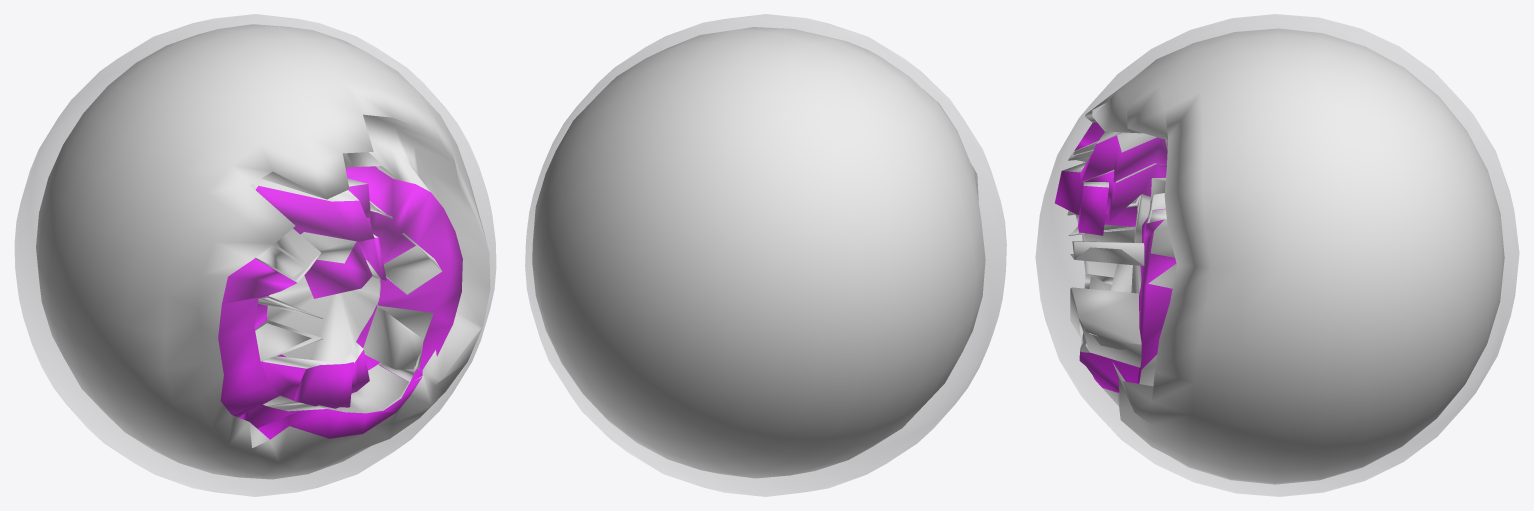
Rendered from ojo_defo.gltf.
The picture shows the model from 3 angles, left to right: view 1: azimuth 30°, elevation 25°; view 2: azimuth 150°, elevation 25°; view 3: azimuth 270°, elevation 25°; orthographic projection.
Parts seen in each view (by area): view 1: Sphere; view 2: Sphere; view 3: Sphere.
Part boxes in pixels (box(x1,y1,x2,y2)): Sphere: box(14, 14, 496, 496); Sphere: box(525, 14, 1006, 496); Sphere: box(1035, 14, 1519, 496).
Bounding box in the file's own units: 1.99 × 1.99 × 1.99.
